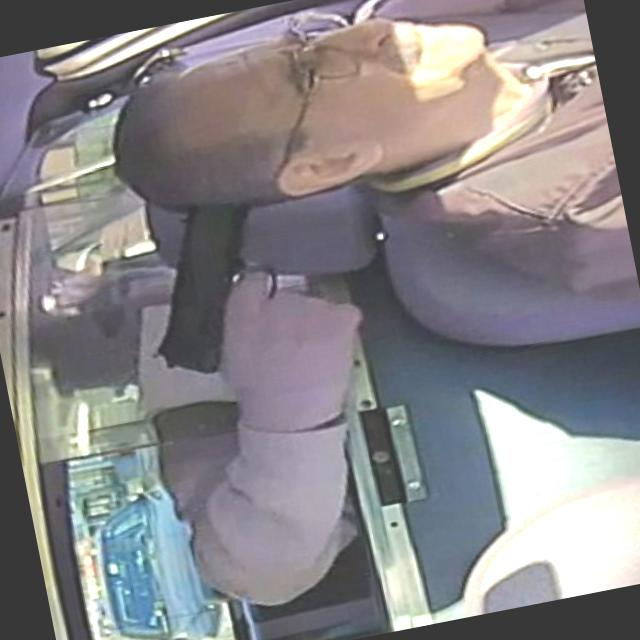handgun: (121, 179, 365, 395)
